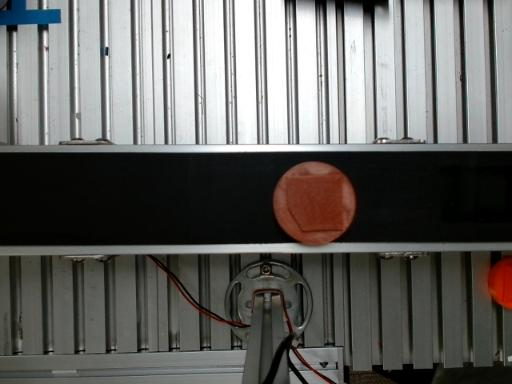Brown_Waper: (274, 162, 356, 244)
Not_Square: (287, 176, 344, 230)
